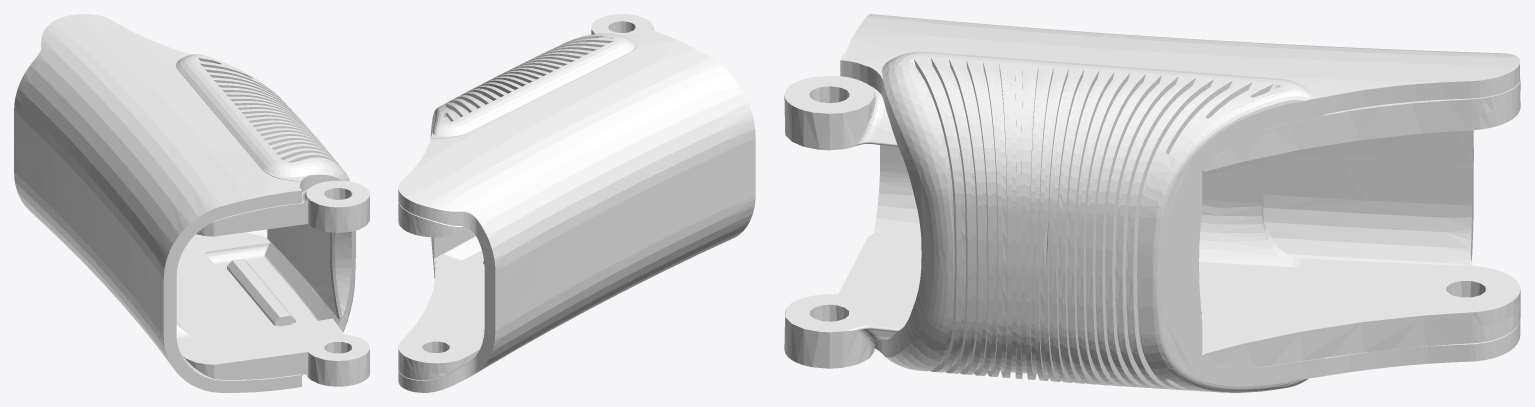
Rendered from lh_ring_middle_vis.obj.
3 renders of one model, left to right at view 1: azimuth 30°, elevation 25°; view 2: azimuth 150°, elevation 25°; view 3: azimuth 270°, elevation 25°, orthographic. The views are drawn at different scales.
Parts seen in each view (by area): view 1: lh_ring_middle; view 2: lh_ring_middle; view 3: lh_ring_middle.
Boxes of the visible parts, x1,y1,x2,y2 form: lh_ring_middle: [14, 14, 369, 392]; lh_ring_middle: [398, 14, 755, 392]; lh_ring_middle: [784, 14, 1520, 392].
Bounding box in the file's own units: 0.0193 × 0.0164 × 0.0367.
Materials: 1 (1 with a texture image).
